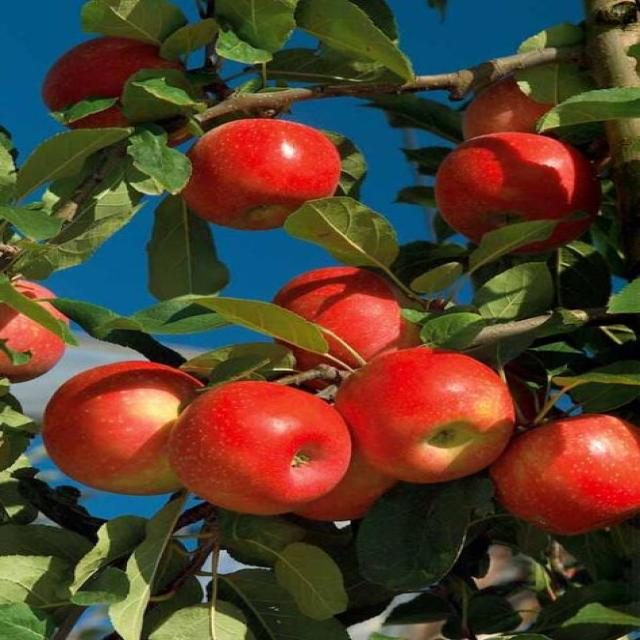Tao: (44, 361, 237, 504), (335, 351, 513, 491), (166, 381, 347, 510), (178, 118, 352, 241), (38, 32, 199, 147), (438, 137, 596, 248), (284, 261, 424, 381), (506, 417, 640, 532), (441, 81, 596, 145), (5, 278, 70, 381)
